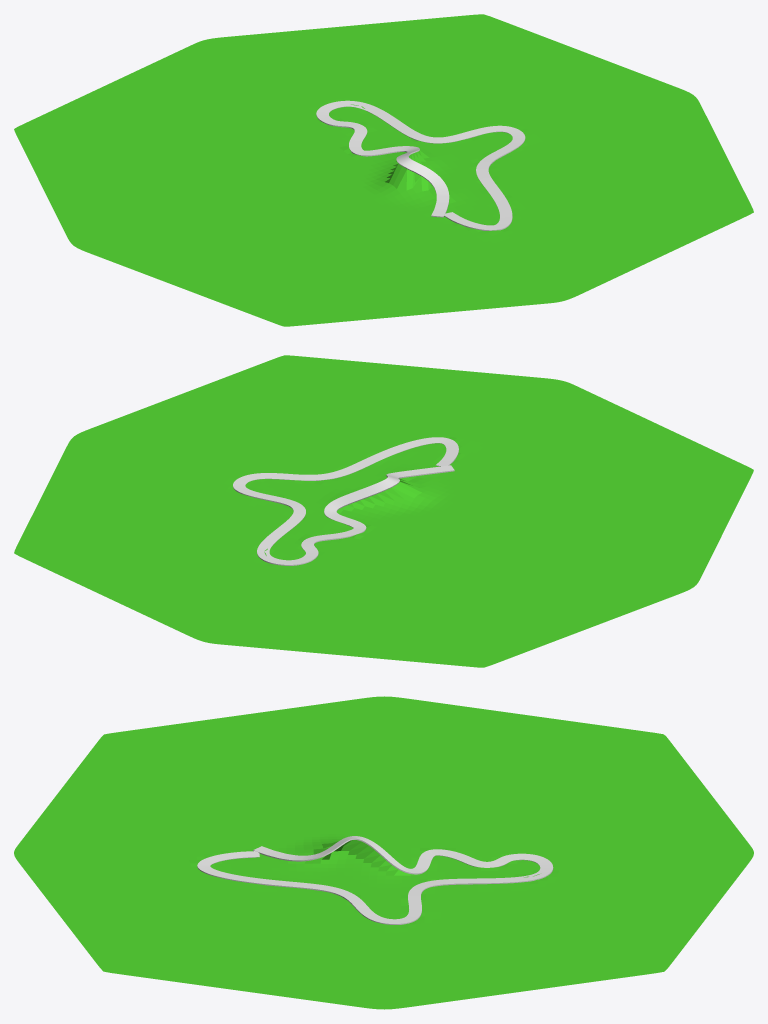
The model's file is test_track_applied.fbx.
3 views of the same model, one above another, from view 1: azimuth 30°, elevation 25°; view 2: azimuth 150°, elevation 25°; view 3: azimuth 270°, elevation 25° (orthographic). The views are drawn at different scales.
Parts seen in each view (by area): view 1: Plane, Cube; view 2: Plane, Cube; view 3: Plane, Cube.
Boxes of the visible parts, left/top/right/bottom form: Plane: left=14, top=14, right=753, bottom=326; Cube: left=316, top=100, right=525, bottom=230; Plane: left=14, top=355, right=753, bottom=667; Cube: left=233, top=437, right=458, bottom=565; Plane: left=14, top=696, right=753, bottom=1009; Cube: left=197, top=836, right=553, bottom=924.
Bounding box in the file's own units: 30051 × 946 × 30024.
